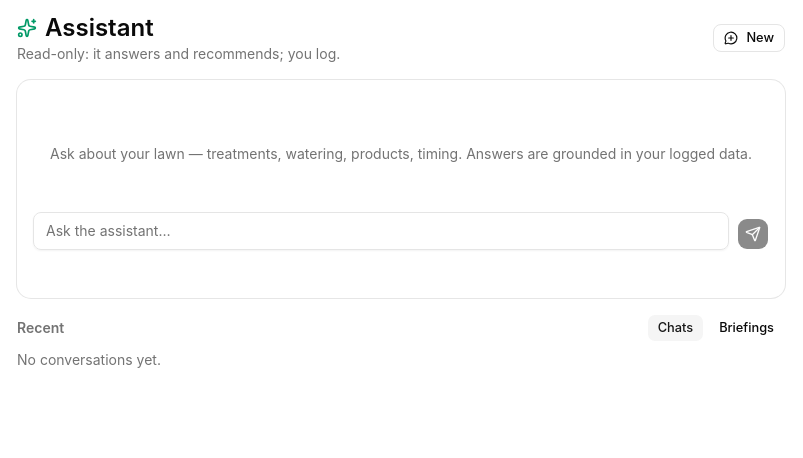
Test: ChatPanel › flags a truncated answer instead of presenting it as complete
The width and height of the screenshot is (803, 458).
Type "long question" into the text box named "Message".
click(381, 231); type("long question")  # box x1=33 y1=212 x2=729 y2=250
Then press Enter
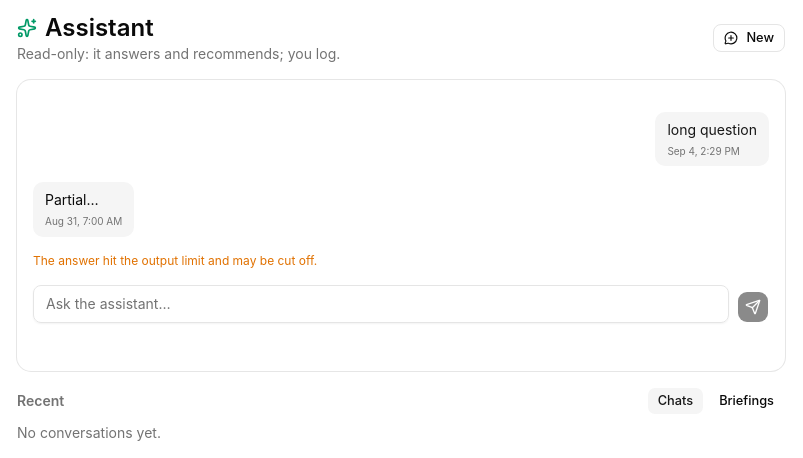
Now the text "The answer hit the output limit and may be cut off." is shown, box x1=33 y1=253 x2=317 y2=268
